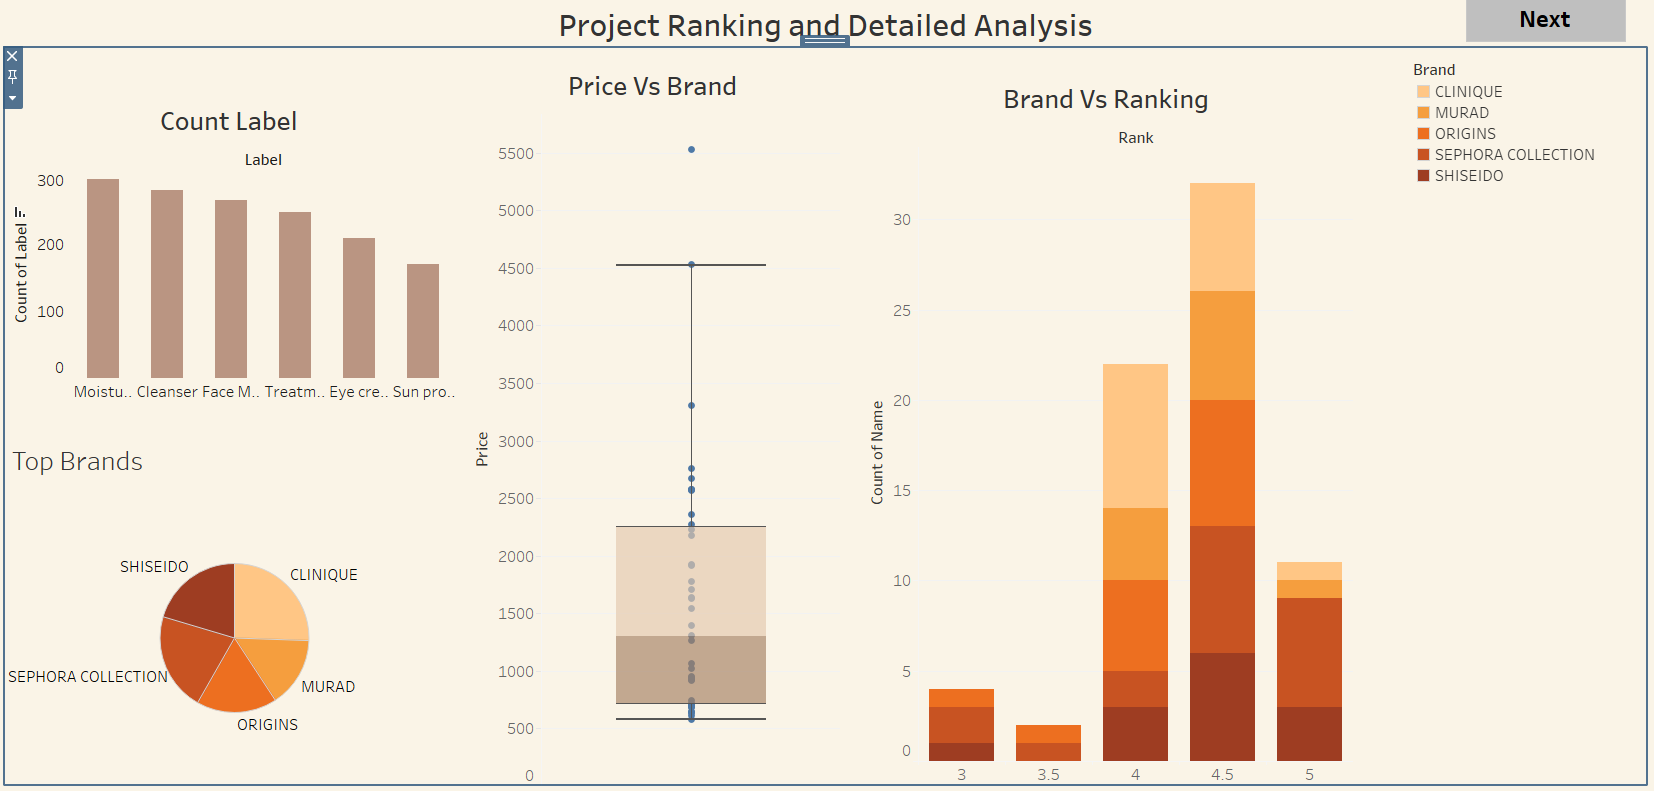

What the dashboard file says about the page in this screenshot:
{"tool":"tableau","page":{"name":"Dashboard 1","canvas":[1000,1000],"units":"permille","ordinal":0},"visuals":[{"type":"dashboard-object","box":[886.7,5,96.8,58.7]},{"type":"title","box":[11.5,10.1,977,61.9]},{"type":"legend","title":"Top Brands","param":"[federated.1jpsdiz1sz7fny18u9vko0jm32ra].[none:Brand:nk]","box":[854.8,84.9,139.3,162.3]},{"type":"worksheet","title":"PricevsBrand*","mark":"Circle","rows":["Price"],"box":[281.6,91.1,227.3,901.4]},{"type":"worksheet","title":"Brand Vs Ranking","mark":"Automatic","rows":["Name"],"cols":["Rank"],"box":[520.1,107.4,298.1,885.1]},{"type":"worksheet","title":"Count Label","mark":"Automatic","rows":["Label"],"cols":["Label"],"box":[3.5,134.8,272.8,398.2]},{"type":"worksheet","title":"Top Brands","mark":"Pie","box":[6.5,559.3,273.3,434.5]}]}

Visuals, with their boxes on the dashboard's canvas, which has no fixed pixel size, in thousandths of its width and height (x1, y1, x2, y2). These are canvas units, not pixel positions in the 1654x791 screenshot, which may show the page scaled, cropped or inside an application window:
dashboard-object: l=887, t=5, r=984, b=64
title: l=12, t=10, r=988, b=72
"Top Brands" legend: l=855, t=85, r=994, b=247
"PricevsBrand*" worksheet (Circle marks): l=282, t=91, r=509, b=992
"Brand Vs Ranking" worksheet: l=520, t=107, r=818, b=992
"Count Label" worksheet: l=4, t=135, r=276, b=533
"Top Brands" worksheet (Pie marks): l=6, t=559, r=280, b=994
